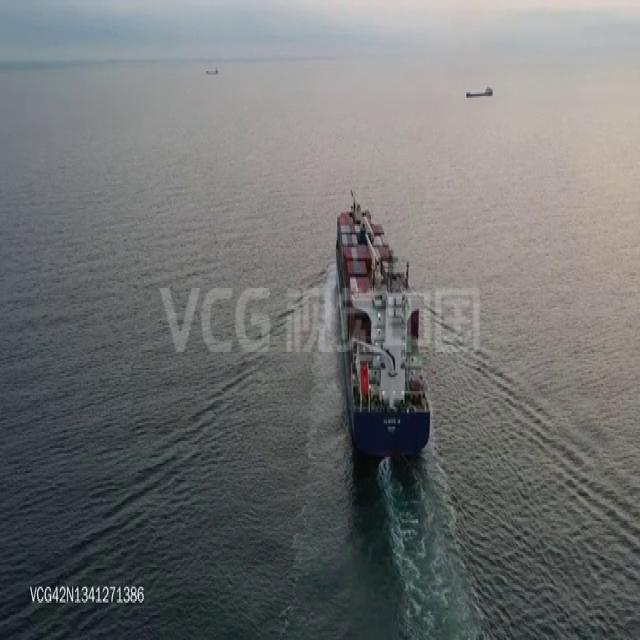cargoship: (331, 188, 433, 455), (464, 83, 494, 100), (204, 60, 220, 76)
